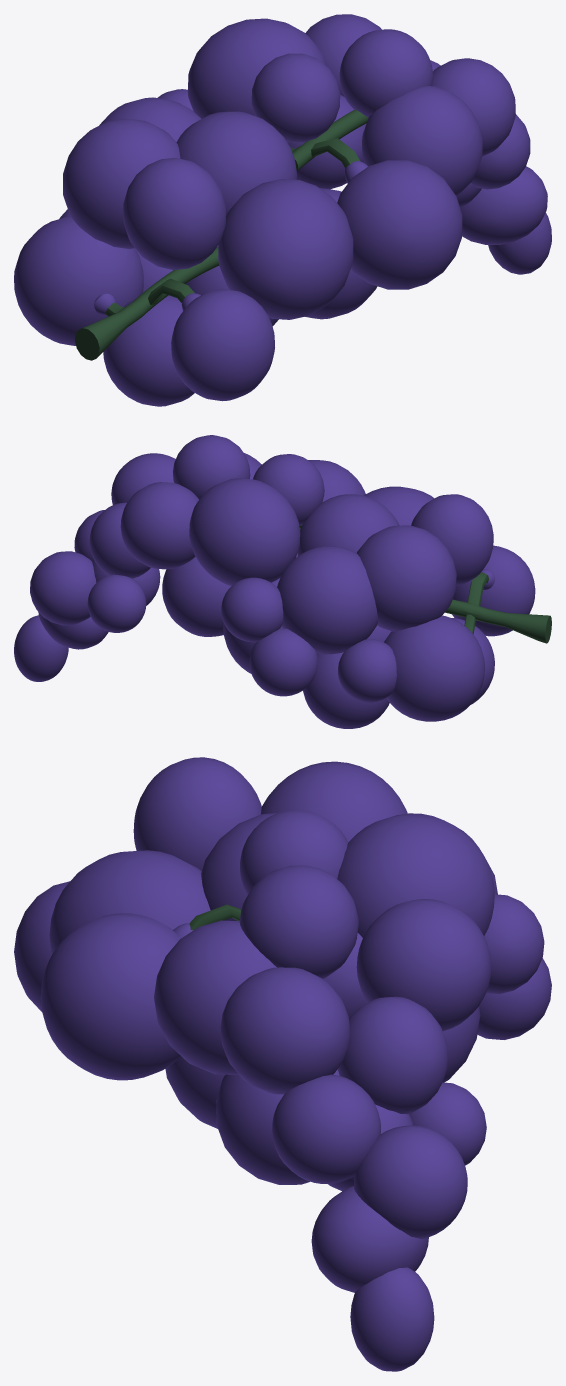
The model's file is grape.fbx.
3 views of the same model, one above another, from view 1: azimuth 30°, elevation 25°; view 2: azimuth 150°, elevation 25°; view 3: azimuth 270°, elevation 25° (orthographic). The views are drawn at different scales.
Visible parts, largest first — view 1: grape; view 2: grape; view 3: grape.
Boxes of the visible parts, x1,y1,x2,y2 form: grape: (14, 14, 551, 406); grape: (14, 435, 551, 728); grape: (14, 757, 551, 1371).
Bounding box in the file's own units: 1.66 × 0.8782 × 1.09.
